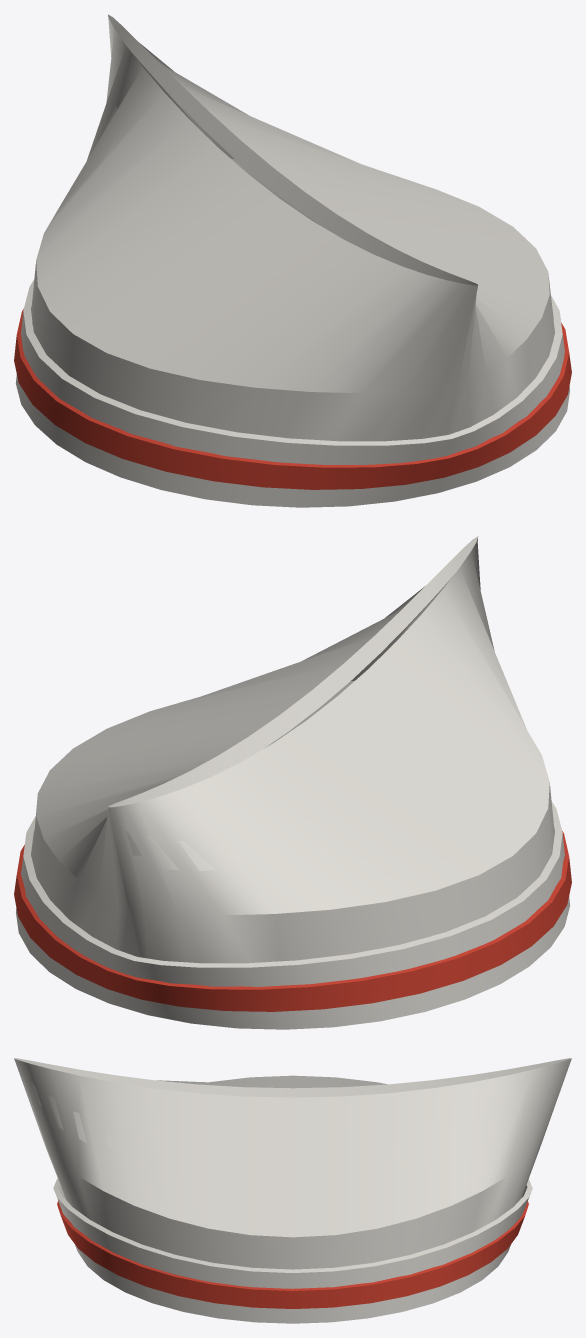
The model's file is Cosmetic_Hat_PaperCap.fbx.
3 views of the same model, one above another, from view 1: azimuth 30°, elevation 25°; view 2: azimuth 150°, elevation 25°; view 3: azimuth 270°, elevation 25° (orthographic). The views are drawn at different scales.
Visible parts, largest first — view 1: Cap, Stripe; view 2: Cap, Stripe; view 3: Cap, Stripe.
Boxes of the visible parts, bbox=[...] form: Cap: bbox=[15, 14, 569, 507]; Stripe: bbox=[14, 309, 571, 489]; Cap: bbox=[16, 536, 570, 1029]; Stripe: bbox=[14, 831, 571, 1011]; Cap: bbox=[14, 1058, 571, 1323]; Stripe: bbox=[57, 1201, 528, 1308].
Bounding box in the file's own units: 130 × 62.2 × 175.
